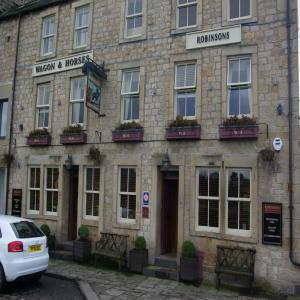Vehicle-registration-plate: (30, 245, 42, 254)
